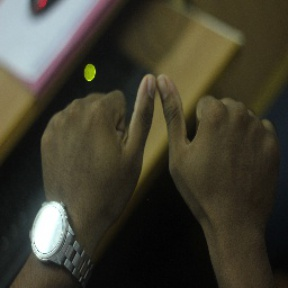A: (85, 68, 242, 204)
